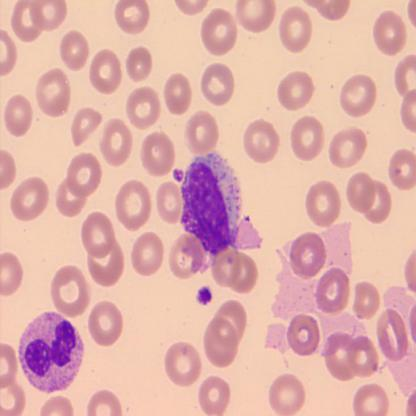Myelocyte: (172, 149, 248, 259), (16, 309, 80, 395)
